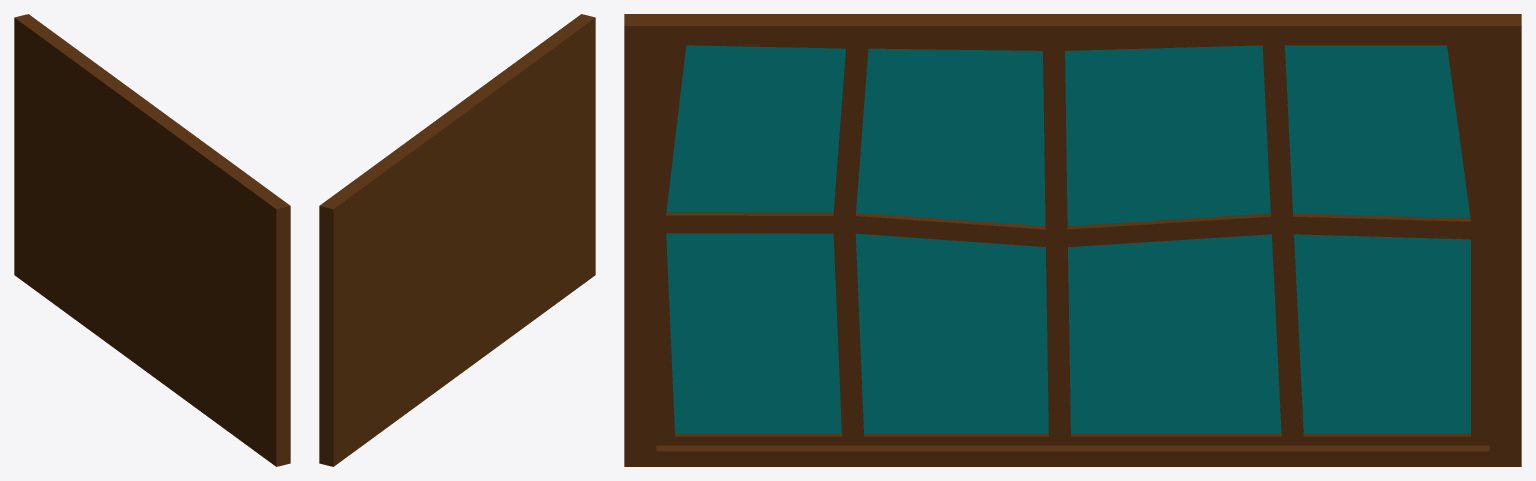
File: CafeWindow.fbx
3 views of the same model, side by side, from view 1: azimuth 30°, elevation 25°; view 2: azimuth 150°, elevation 25°; view 3: azimuth 270°, elevation 25° (orthographic). The views are drawn at different scales.
Parts seen in each view (by area): view 1: Cube.029; view 2: Cube.029; view 3: Cube.029.
Part boxes in pixels (bbox=[...]): Cube.029: bbox=[14, 14, 290, 466]; Cube.029: bbox=[319, 14, 595, 466]; Cube.029: bbox=[624, 14, 1521, 466].
Bounding box in the file's own units: 9.73 × 310 × 168.
